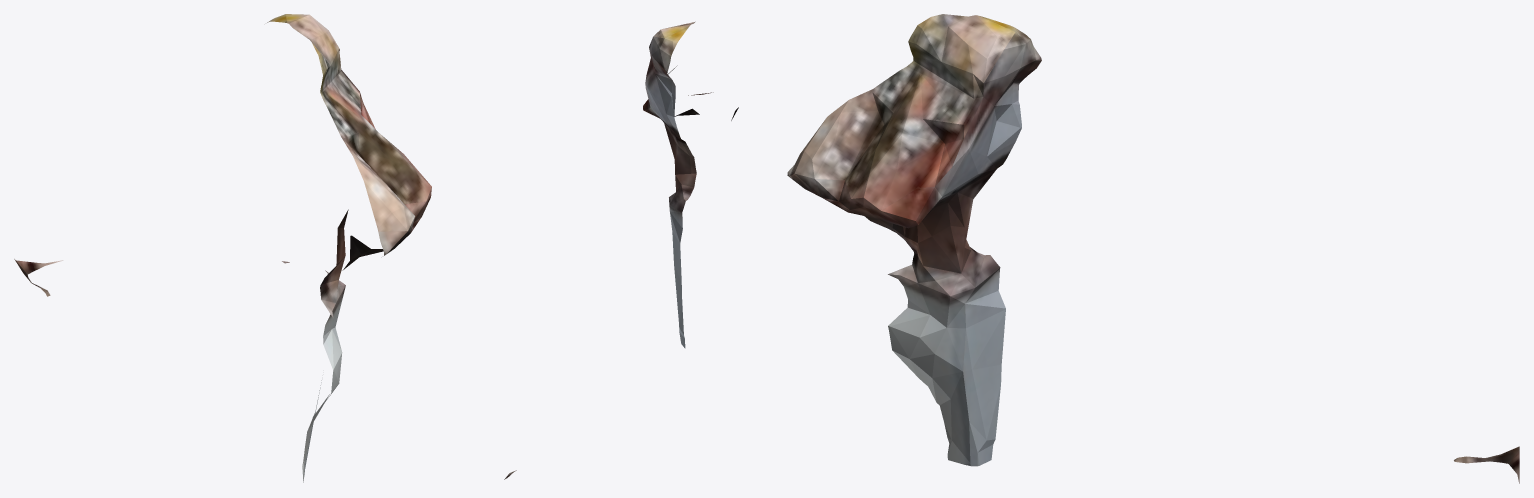
3 renders of one model, left to right at view 1: azimuth 30°, elevation 25°; view 2: azimuth 150°, elevation 25°; view 3: azimuth 270°, elevation 25°, orthographic. The views are drawn at different scales.
Size of the model in its own units: 0.2547 by 1.12 by 1.67.
Materials: 1 (1 with a texture image).
